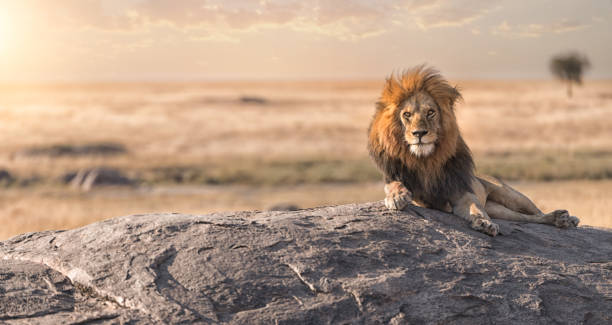lion: (352, 58, 481, 211)
